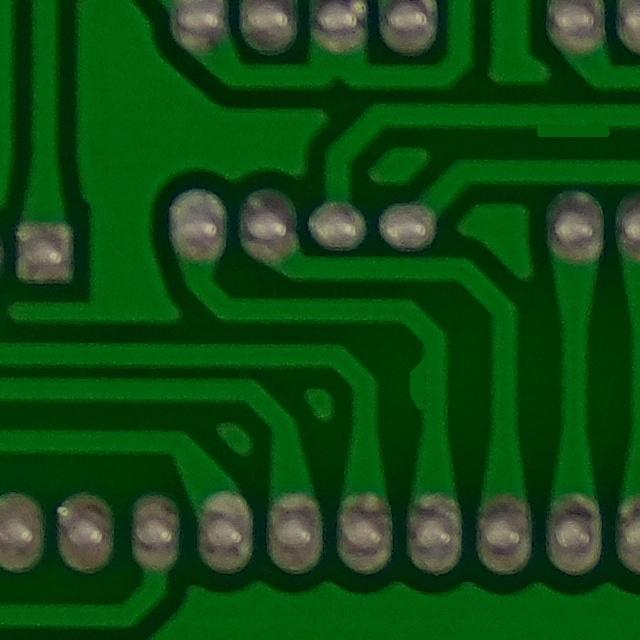spur: (507, 94, 638, 156), (393, 342, 449, 423)
